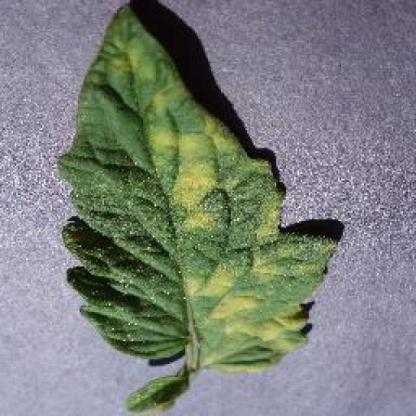Tomato_Leaf_Mold: (63, 6, 339, 368)
